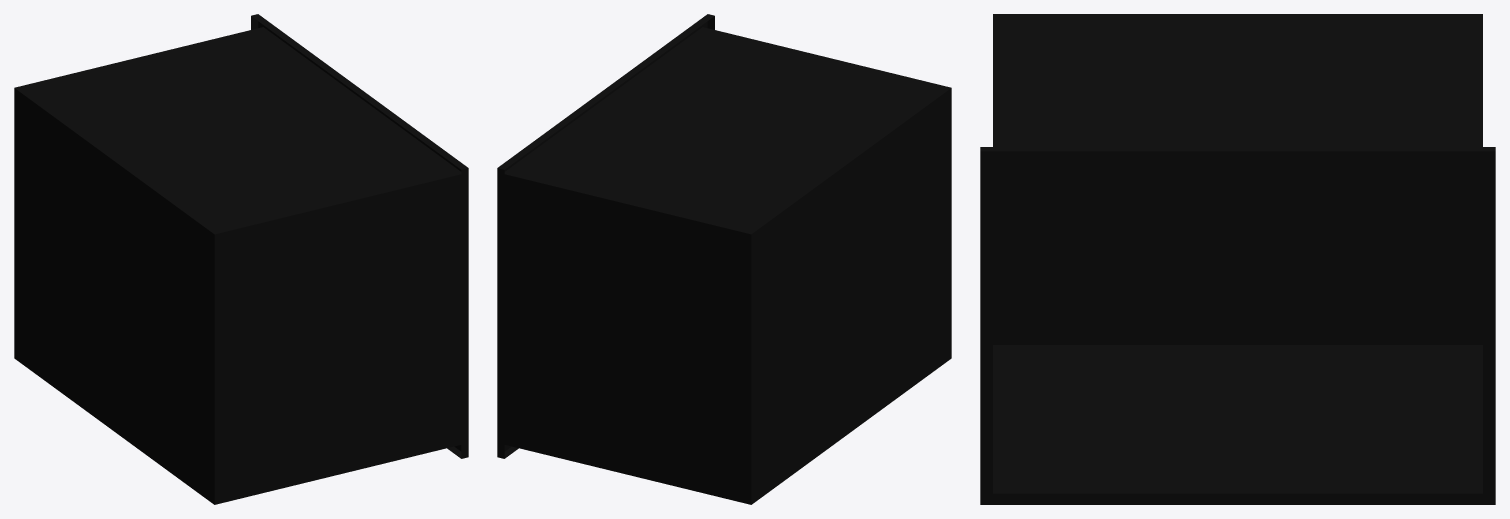
File: Generator_Compartment.glb
3 views of the same model, side by side, from view 1: azimuth 30°, elevation 25°; view 2: azimuth 150°, elevation 25°; view 3: azimuth 270°, elevation 25° (orthographic). The views are drawn at different scales.
Visible parts, largest first — view 1: Generator Compartment; view 2: Generator Compartment; view 3: Generator Compartment.
Boxes of the visible parts, x1,y1,x2,y2 form: Generator Compartment: (14,14,468,504); Generator Compartment: (497,14,951,504); Generator Compartment: (980,14,1495,504).
Size of the model in its own units: 1.13 by 1.25 by 1.65.
Materials: 1 (1 with a texture image).
